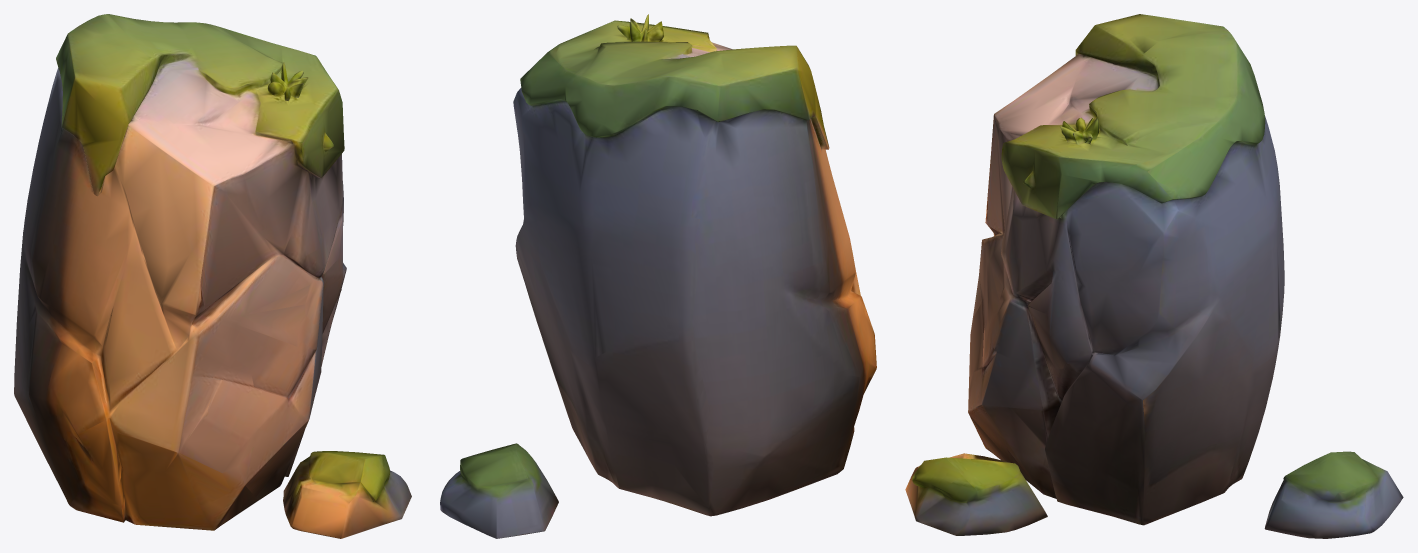
File: rock_2.glb
3 views of the same model, side by side, from view 1: azimuth 30°, elevation 25°; view 2: azimuth 150°, elevation 25°; view 3: azimuth 270°, elevation 25° (orthographic). The views are drawn at different scales.
Visible parts, largest first — view 1: rock_2; view 2: rock_2; view 3: rock_2.
Boxes of the visible parts, left/top/right/bottom form: rock_2: left=14, top=14, right=411, bottom=538; rock_2: left=440, top=14, right=876, bottom=538; rock_2: left=905, top=14, right=1403, bottom=538.
Bounding box in the file's own units: 0.3782 × 0.4647 × 0.5066.
Materials: 1 (1 with a texture image).
